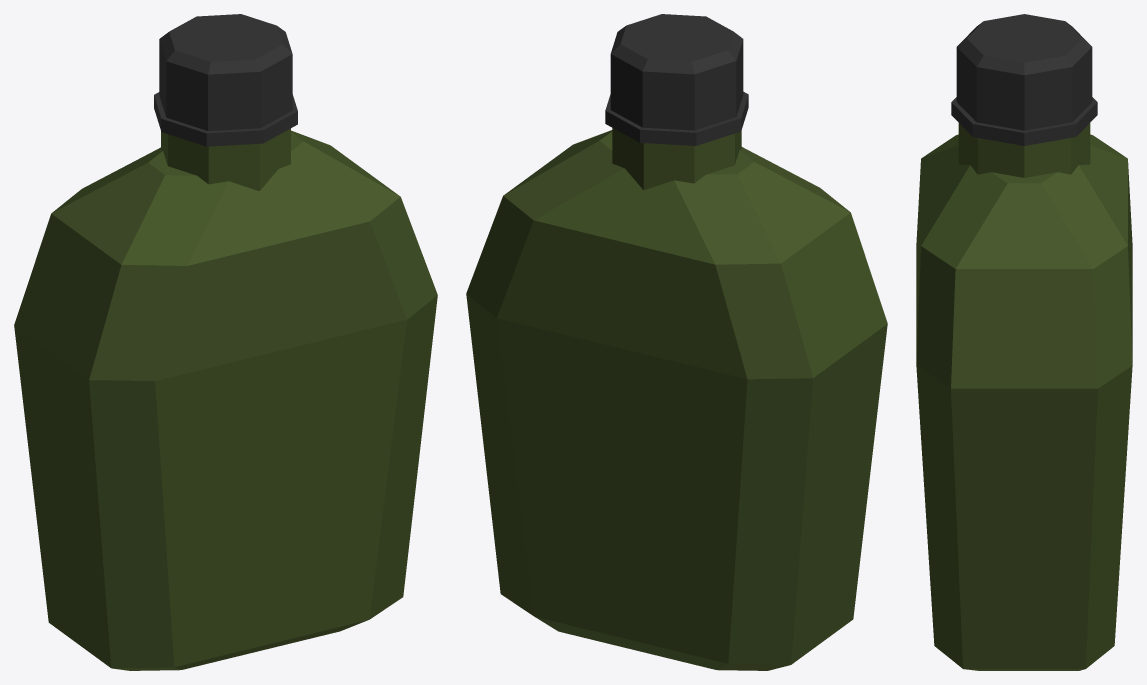
The model's file is Flask_mat.fbx.
3 views of the same model, side by side, from view 1: azimuth 30°, elevation 25°; view 2: azimuth 150°, elevation 25°; view 3: azimuth 270°, elevation 25° (orthographic).
Parts seen in each view (by area): view 1: Flask_mat; view 2: Flask_mat; view 3: Flask_mat.
Part boxes in pixels (box(x1,y1,x2,y2)): Flask_mat: box(14, 14, 437, 670); Flask_mat: box(466, 14, 887, 670); Flask_mat: box(916, 14, 1132, 670).
Bounding box in the file's own units: 10.84 × 17.44 × 5.94.
